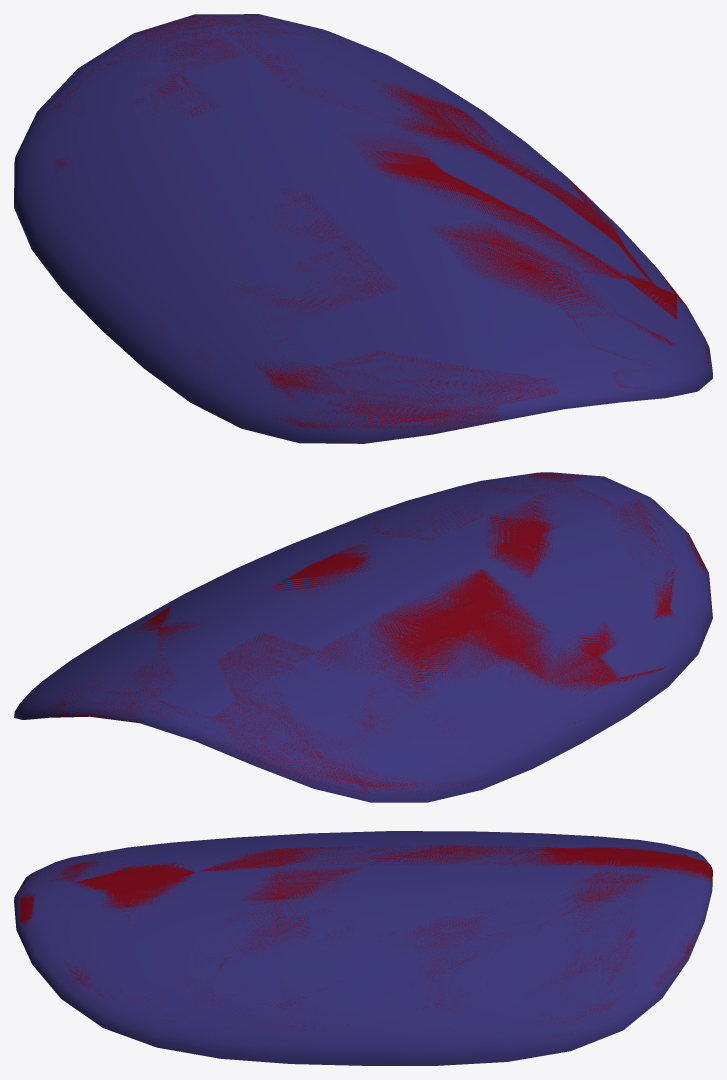
Rendered from ex12purple.glb.
3 views of the same model, one above another, from view 1: azimuth 30°, elevation 25°; view 2: azimuth 150°, elevation 25°; view 3: azimuth 270°, elevation 25° (orthographic). The views are drawn at different scales.
Parts seen in each view (by area): view 1: nail.001, nail; view 2: nail.001, nail; view 3: nail.001, nail.
Boxes of the visible parts, bbox=[...] form: nail.001: bbox=[14, 14, 712, 443]; nail: bbox=[51, 14, 712, 443]; nail.001: bbox=[14, 472, 712, 802]; nail: bbox=[27, 472, 712, 798]; nail.001: bbox=[14, 831, 712, 1065]; nail: bbox=[15, 845, 712, 1045].
Size of the model in its own units: 0.9089 by 0.2412 by 1.36.
